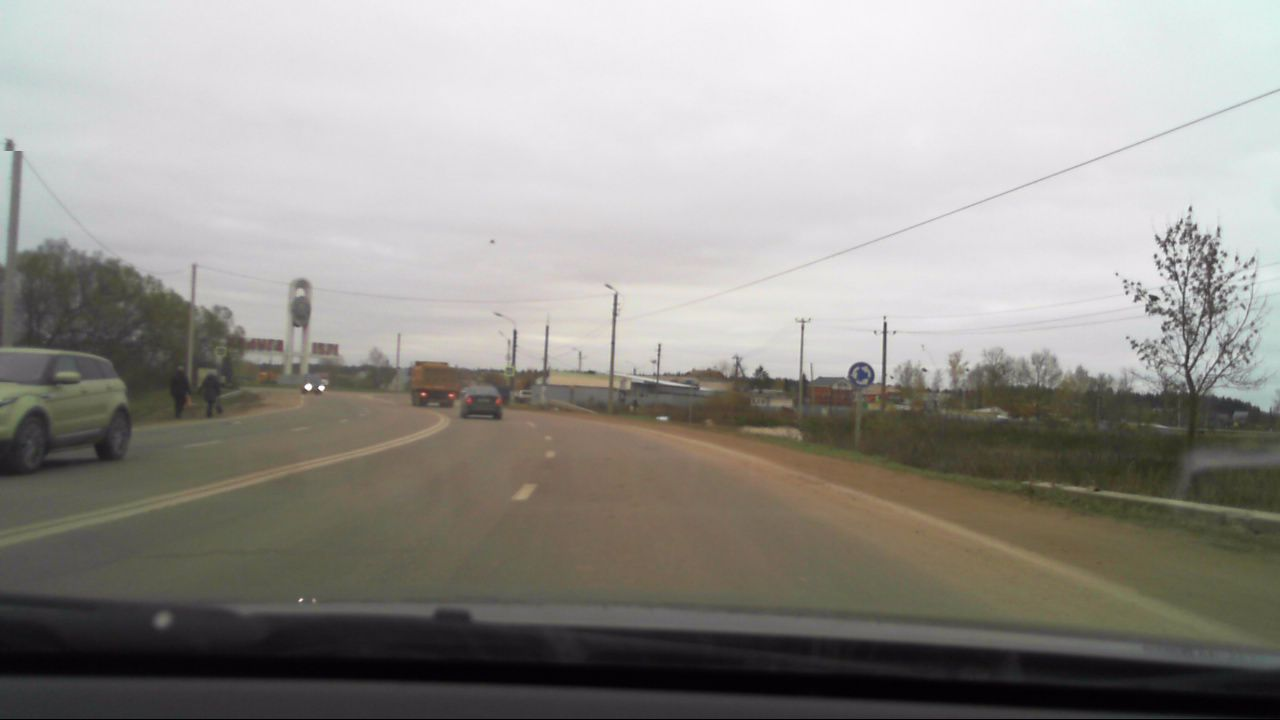Round-About: (846, 360, 873, 388)
